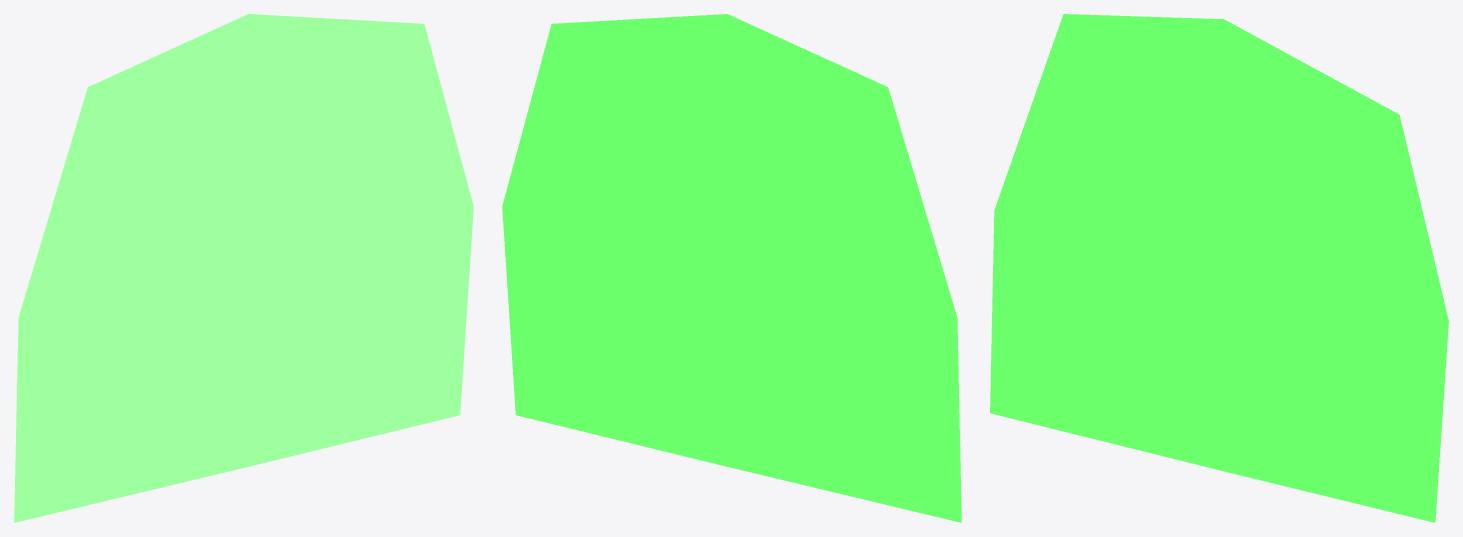
File: floatingEarthRockGlow.glb
The picture shows the model from 3 angles, left to right: view 1: azimuth 30°, elevation 25°; view 2: azimuth 150°, elevation 25°; view 3: azimuth 330°, elevation 25°; orthographic projection.
Visible parts, largest first — view 1: floatingEarthRockGlow; view 2: floatingEarthRockGlow; view 3: floatingEarthRockGlow.
Boxes of the visible parts, x1,y1,x2,y2 form: floatingEarthRockGlow: [14, 14, 473, 522]; floatingEarthRockGlow: [502, 14, 961, 522]; floatingEarthRockGlow: [990, 14, 1448, 522].
Size of the model in its own units: 1.31 by 1.23 by 2.98e-07.
